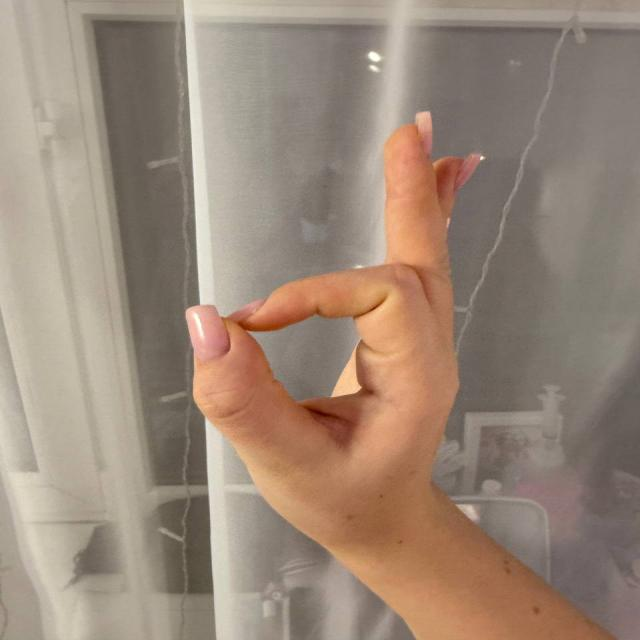o: (184, 70, 506, 515)
